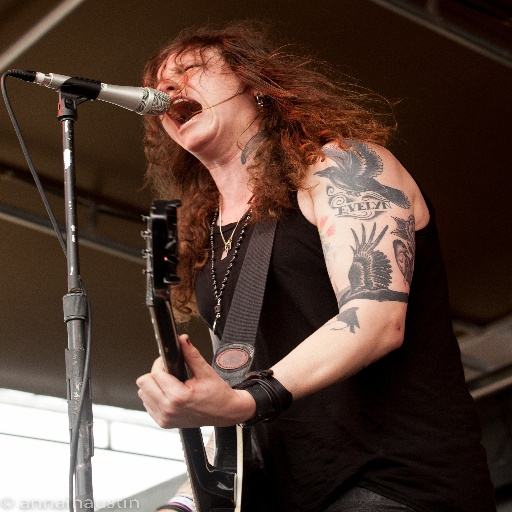hand: (134, 341, 261, 434)
